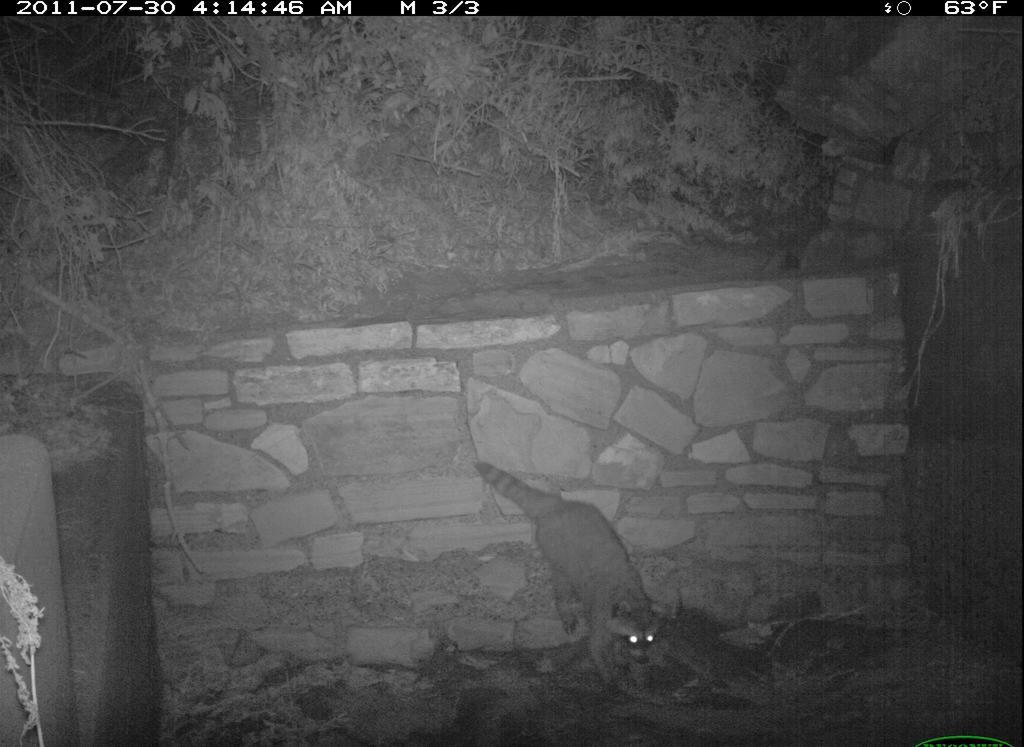raccoon: (463, 446, 680, 706)
